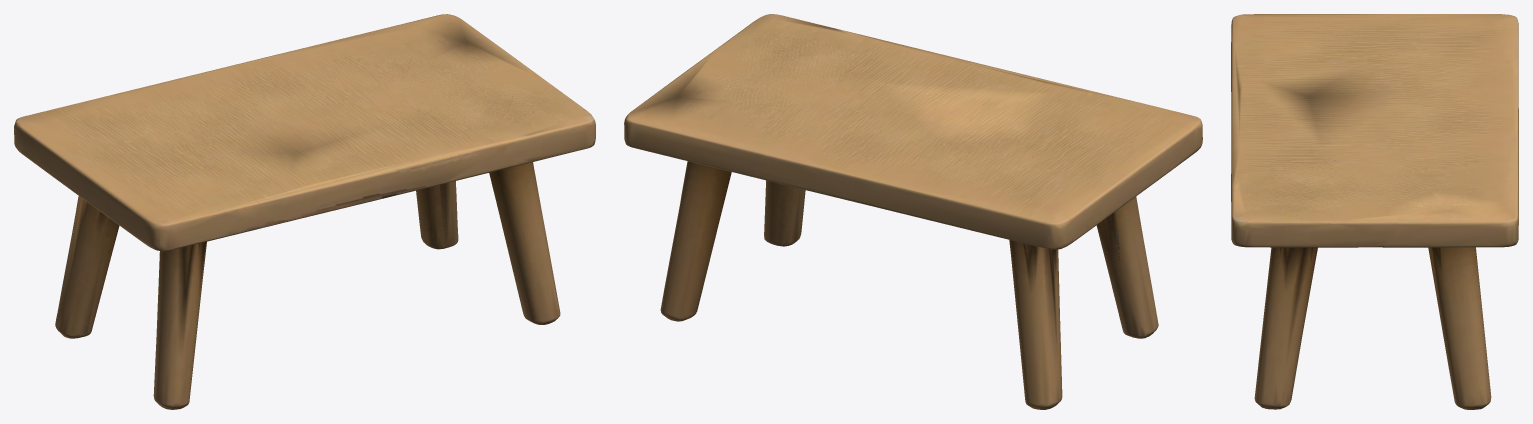
Rendered from riser-lite.glb.
The picture shows the model from 3 angles, left to right: view 1: azimuth 30°, elevation 25°; view 2: azimuth 150°, elevation 25°; view 3: azimuth 270°, elevation 25°; orthographic projection. The views are drawn at different scales.
Parts seen in each view (by area): view 1: node_0; view 2: node_0; view 3: node_0.
Part boxes in pixels (x1,y1,x2,y2): node_0: (14,14,595,409); node_0: (624,14,1202,409); node_0: (1231,14,1518,409).
Size of the model in its own units: 0.9899 by 0.4437 by 0.5741.
1 material, 1 textured.
